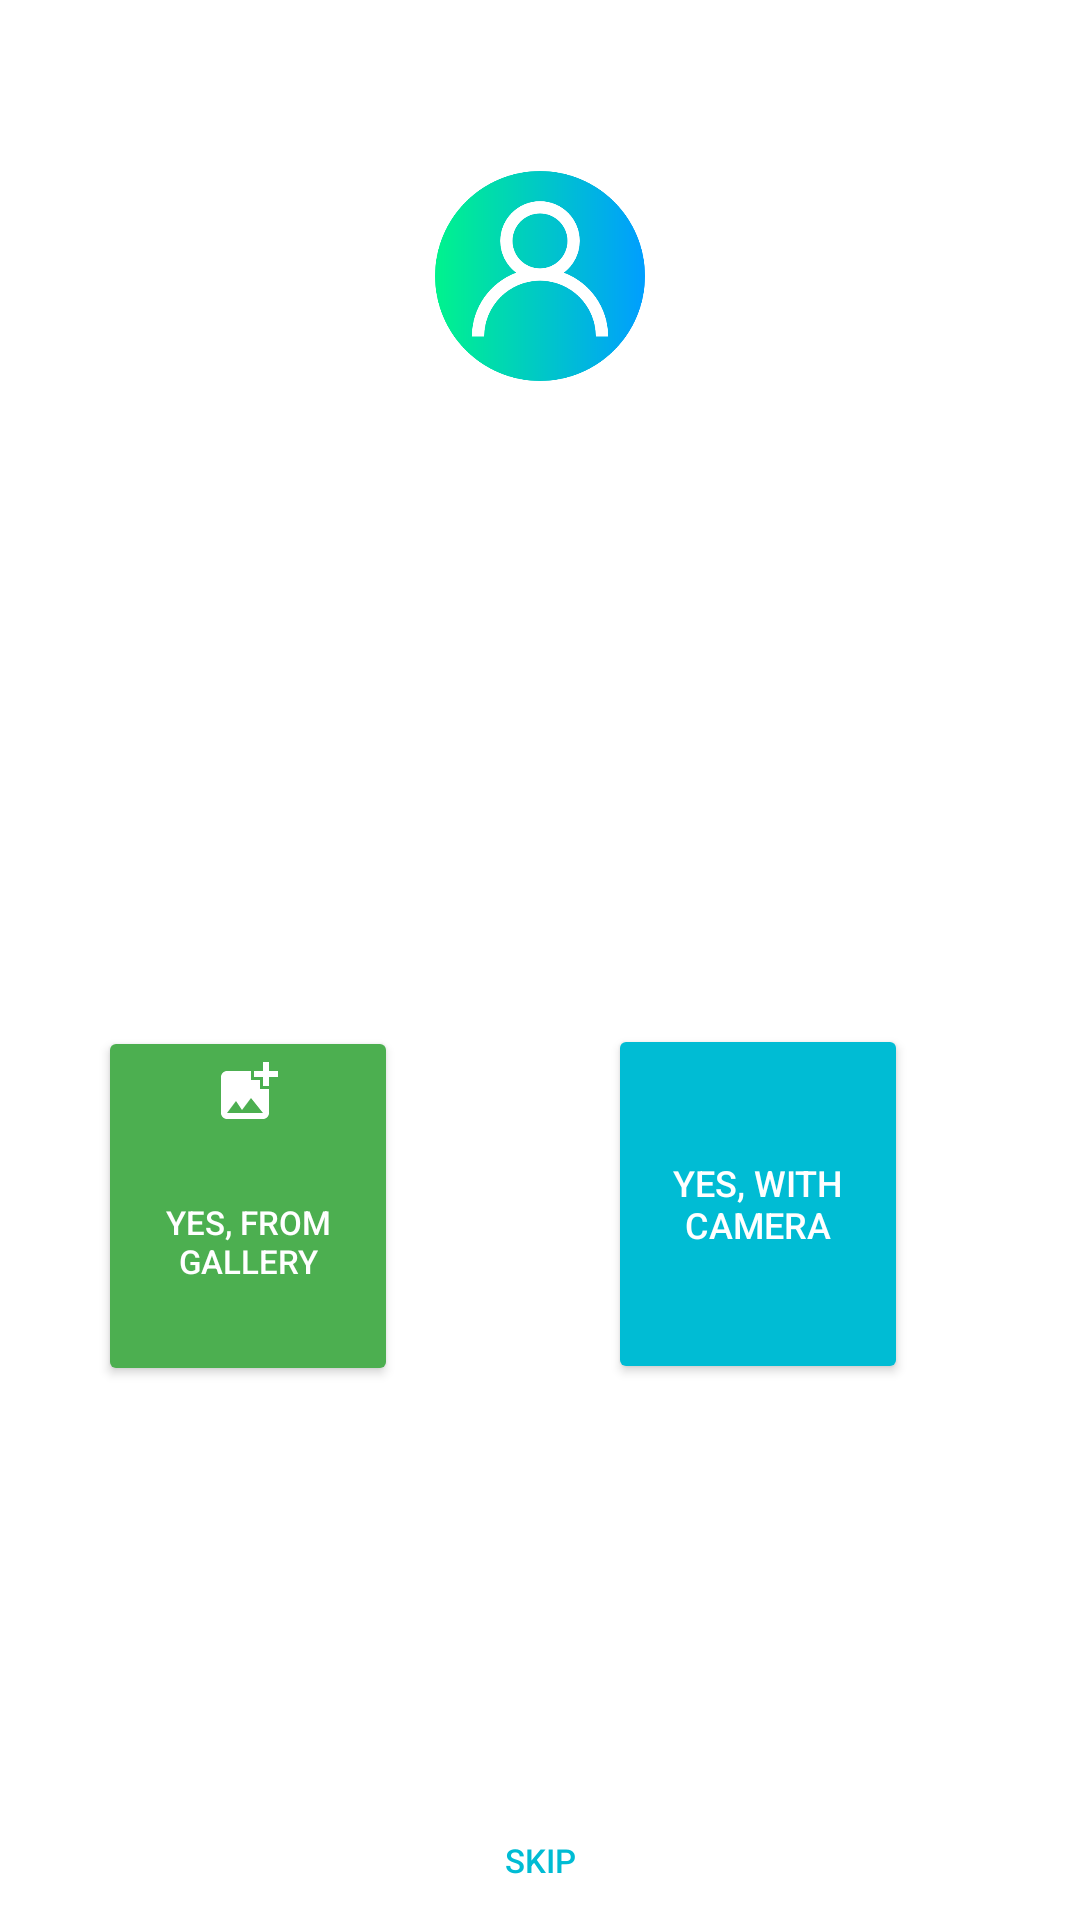

Named icons in this screenshot (1080×1920) and their bounding boxes, [x1=x1, y1=y1, x2=x2, y2=y2]:
user: [x1=435, y1=171, x2=645, y2=381]
